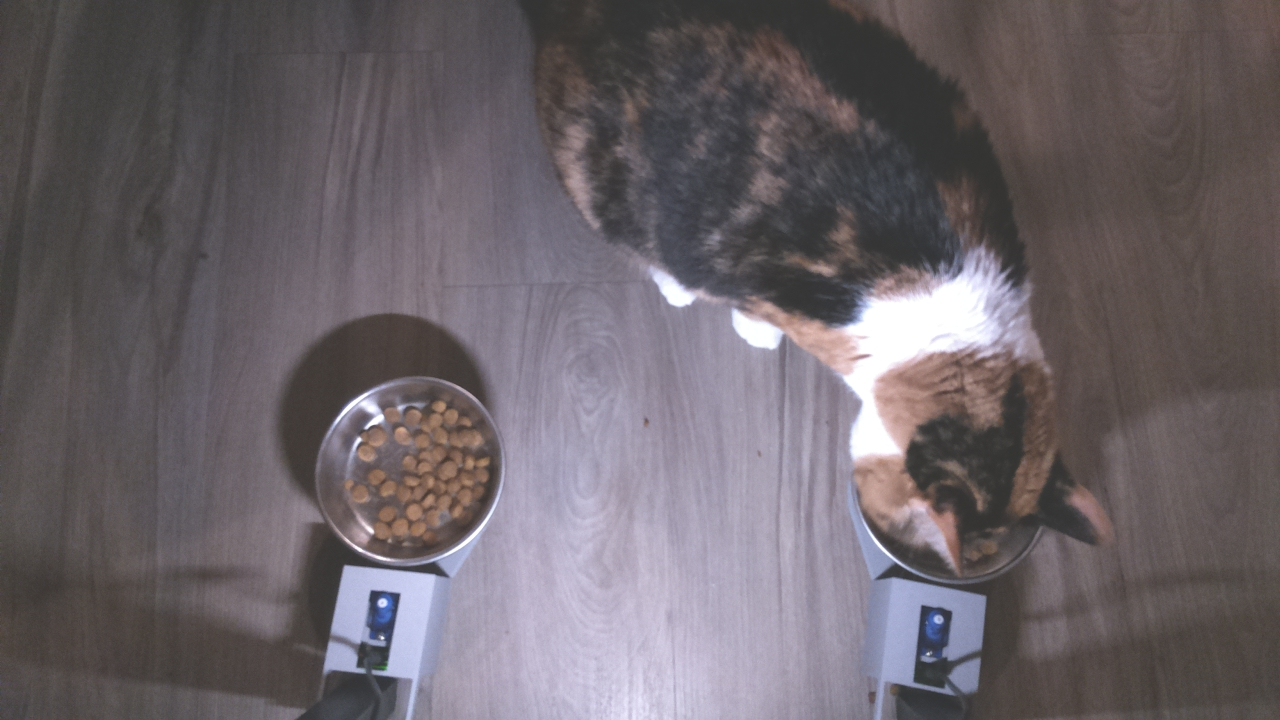bella_eating: (818, 298, 1134, 587)
open_bowl: (311, 372, 511, 571)
